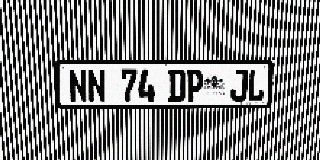4: (138, 69, 156, 102)
7: (119, 69, 138, 102)
D: (168, 69, 186, 102)
J: (230, 69, 248, 102)
L: (247, 69, 265, 101)
N: (68, 69, 88, 103), (87, 69, 106, 103)
P: (186, 69, 203, 102)
